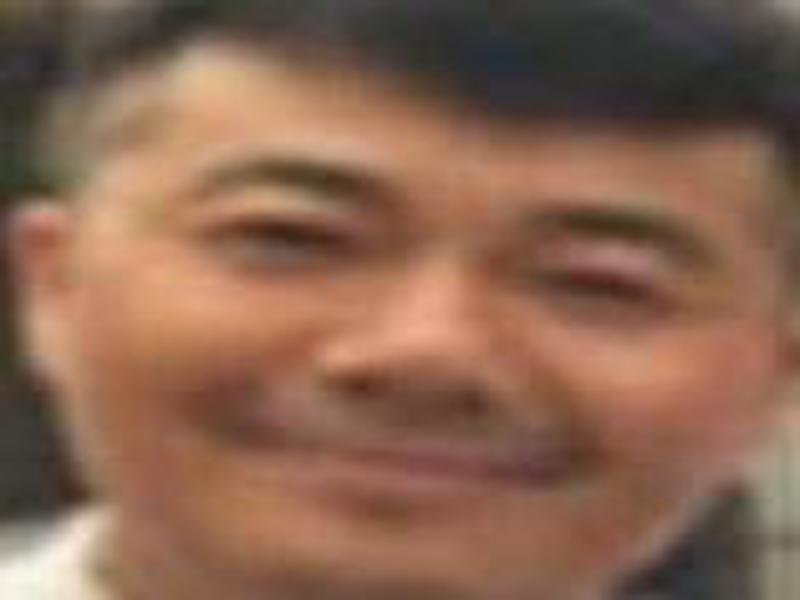without_mask: (74, 57, 787, 591)
